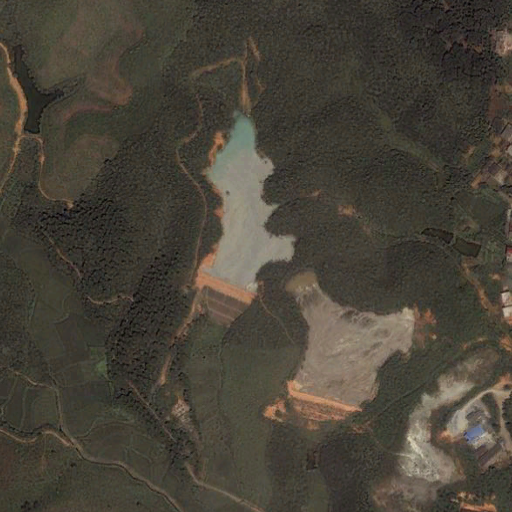tp: (275, 270, 417, 427), (192, 114, 294, 321)
